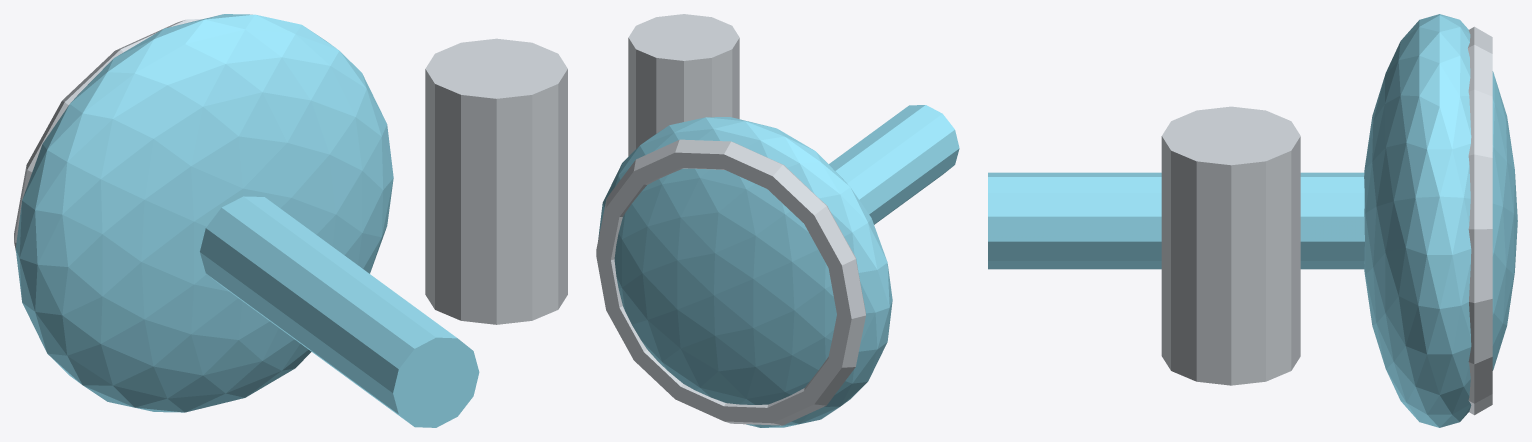
Rendered from ventosa_2.glb.
The picture shows the model from 3 angles, left to right: view 1: azimuth 30°, elevation 25°; view 2: azimuth 150°, elevation 25°; view 3: azimuth 270°, elevation 25°; orthographic projection. The views are drawn at different scales.
Parts seen in each view (by area): view 1: copa, deposito, tubo, aro; view 2: copa, aro, deposito, tubo; view 3: copa, deposito, tubo, aro.
Part boxes in pixels (left/top/right/bottom): copa: left=15, top=14, right=393, bottom=412; deposito: left=425, top=38, right=567, bottom=324; tubo: left=200, top=196, right=479, bottom=427; aro: left=14, top=19, right=202, bottom=250; copa: left=598, top=117, right=892, bottom=427; aro: left=596, top=139, right=865, bottom=425; deposito: left=628, top=14, right=739, bottom=156; tubo: left=829, top=105, right=959, bottom=224; copa: left=1364, top=14, right=1517, bottom=427; deposito: left=1161, top=106, right=1300, bottom=385; tubo: left=988, top=172, right=1364, bottom=269; aro: left=1467, top=26, right=1492, bottom=415.
Size of the model in its own units: 0.8262 by 0.7082 by 0.9.
